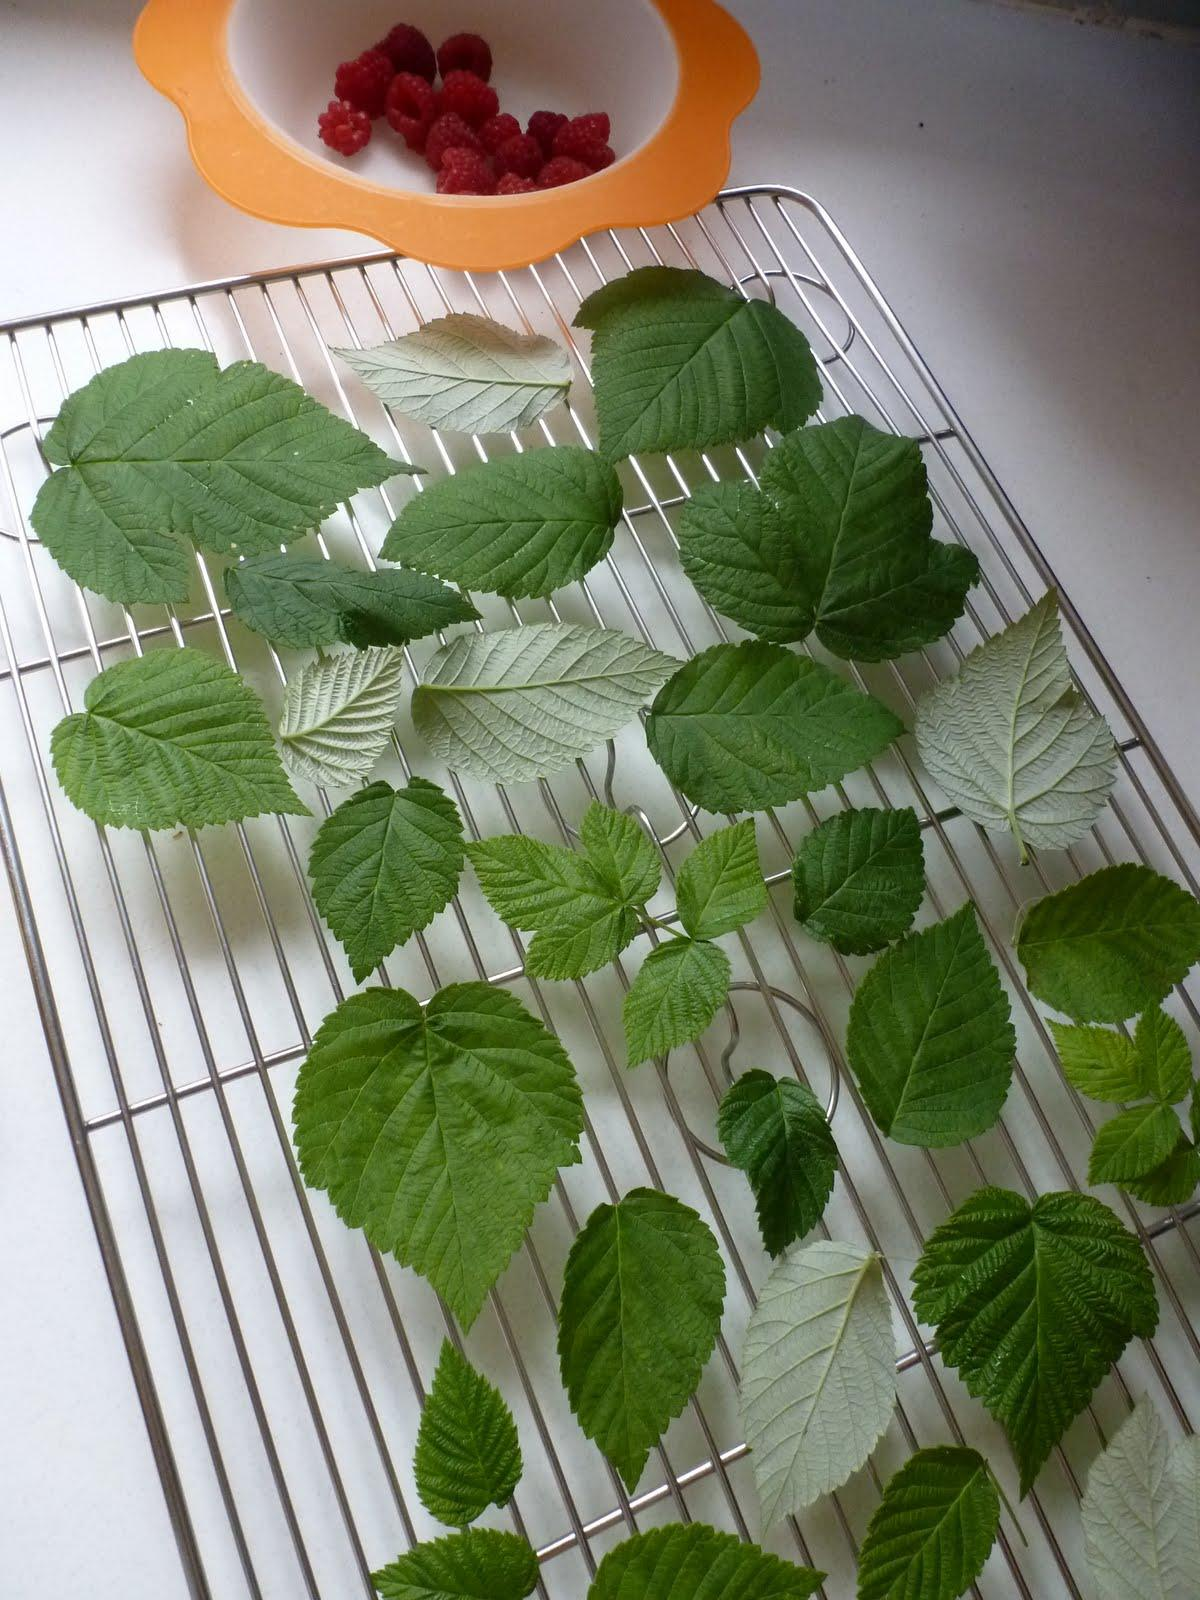Raspberry leaf: (279, 991, 592, 1337), (18, 346, 408, 607), (911, 1196, 1170, 1494), (671, 414, 991, 619), (50, 639, 320, 850), (568, 251, 824, 472), (916, 564, 1111, 848), (405, 614, 693, 785), (745, 1221, 900, 1540), (855, 887, 1041, 1148), (561, 1187, 713, 1498), (637, 627, 908, 794), (287, 767, 470, 986), (388, 443, 620, 587), (718, 1060, 841, 1242)
